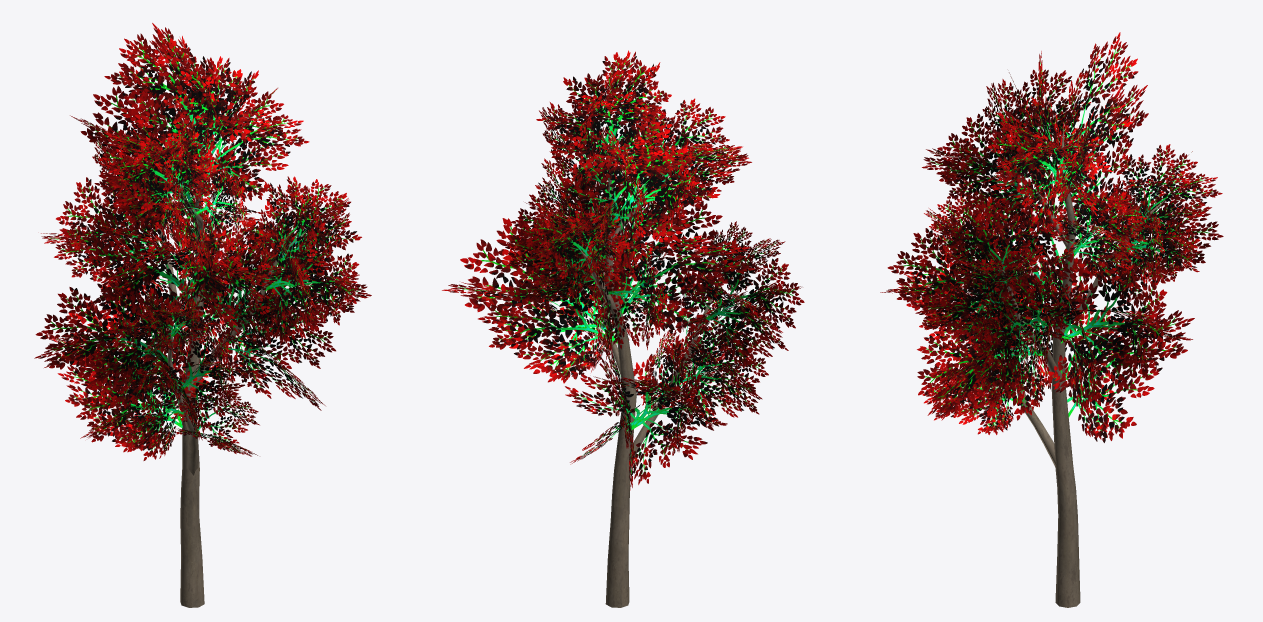
The model's file is SM_Tree_Tall_01.fbx.
3 renders of one model, left to right at view 1: azimuth 30°, elevation 25°; view 2: azimuth 150°, elevation 25°; view 3: azimuth 270°, elevation 25°, orthographic. The views are drawn at different scales.
Parts seen in each view (by area): view 1: SM_Tree_Tall_01_LOD0; view 2: SM_Tree_Tall_01_LOD0; view 3: SM_Tree_Tall_01_LOD0.
Boxes of the visible parts, <box> form: SM_Tree_Tall_01_LOD0: <box>34,23,371,607</box>; SM_Tree_Tall_01_LOD0: <box>442,50,804,607</box>; SM_Tree_Tall_01_LOD0: <box>880,32,1223,607</box>.
Size of what is drawn, in the model's own units: 874 by 1341 by 797.
